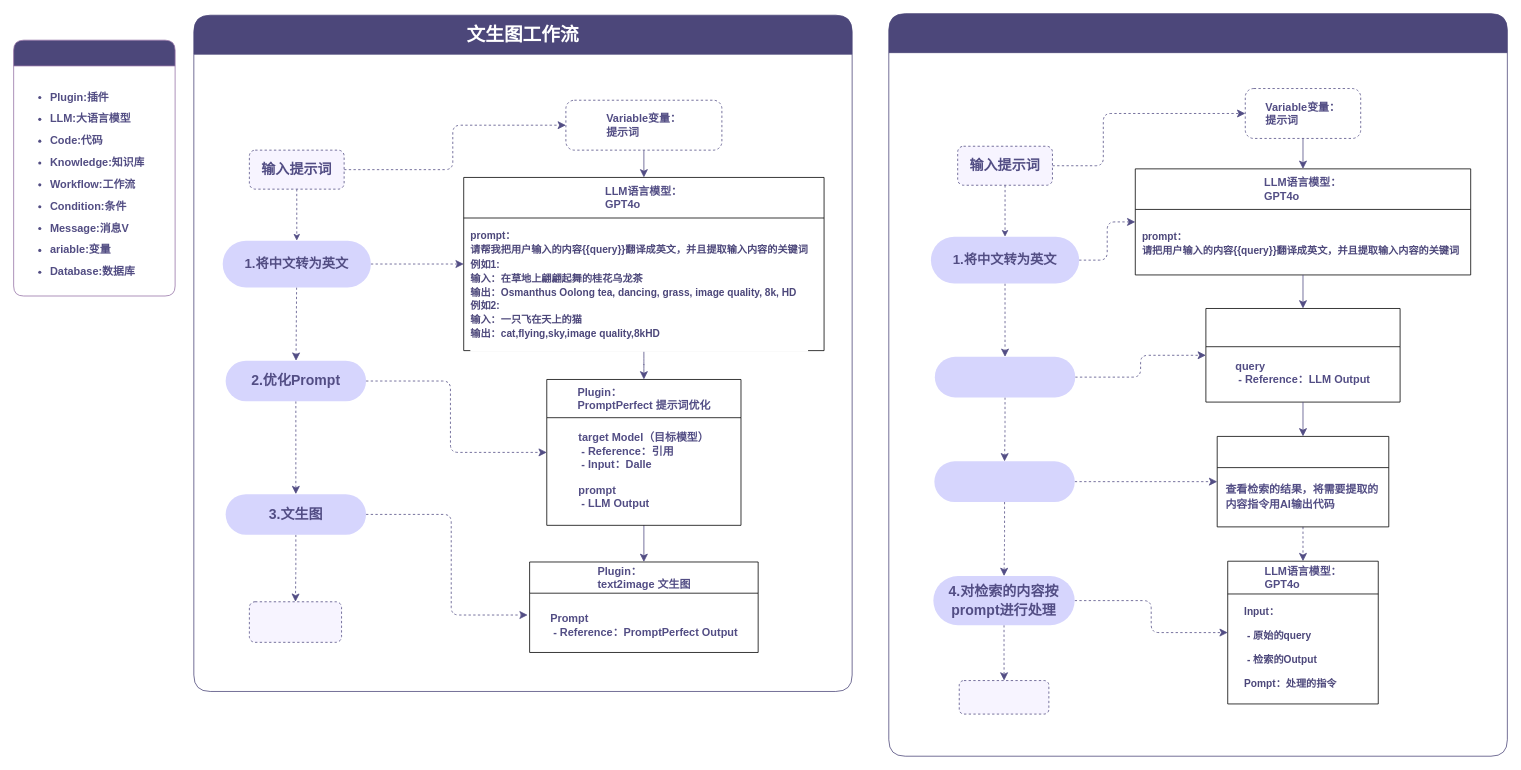
This 1521x770 diagram has some shape labels left out. The shapes that lost their labels are listed below. From the top down, each one's box as (x1, y1, x2, y2) in pixels, then its label:
(13, 39, 175, 296): 节点
(1205, 308, 1400, 402): Plugin： googleweb search ,searchTweet
(934, 356, 1075, 397): 2.多个信息检索
(888, 13, 1507, 756): 信息检索工作流
(934, 461, 1074, 502): 3.提取需要的内容
(1216, 436, 1389, 527): Code代码节点
(249, 601, 342, 642): 4.输出
(958, 680, 1049, 714): 5.输出
